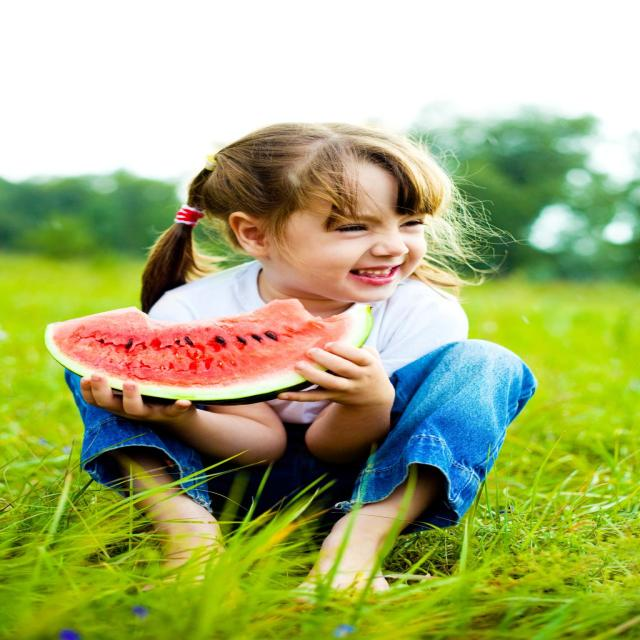Face: (254, 169, 444, 300)
